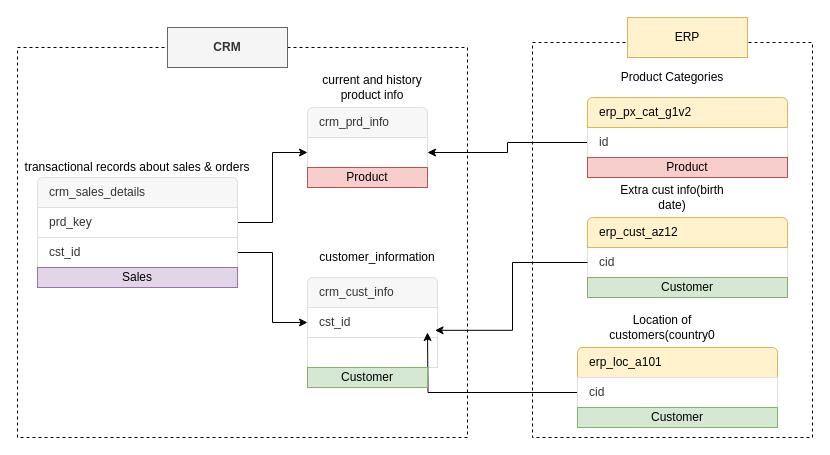
The diagram is 830 pixels wide and 455 high, and some of its shapes have lost their labels. Each missing label, with the box of its shape:
cst_key: (306, 336, 438, 368)
prd_id: (306, 136, 428, 168)
